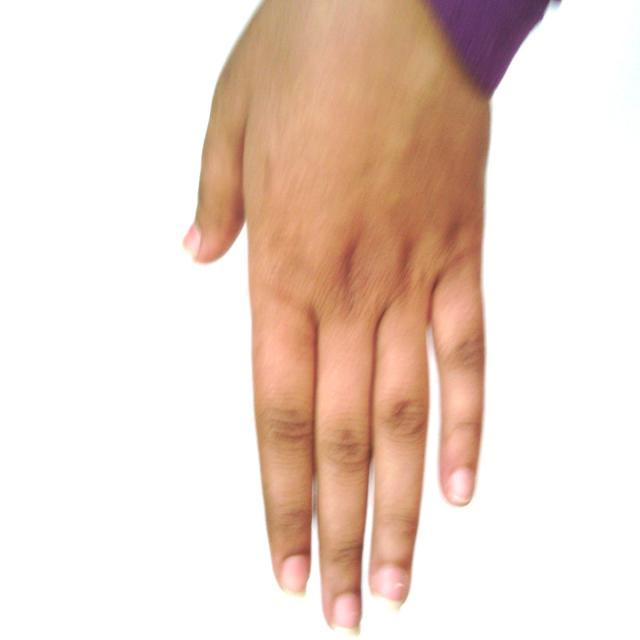Fingernail: (374, 568, 405, 604), (281, 556, 308, 596), (333, 595, 360, 635), (449, 470, 472, 502), (183, 226, 200, 255)
